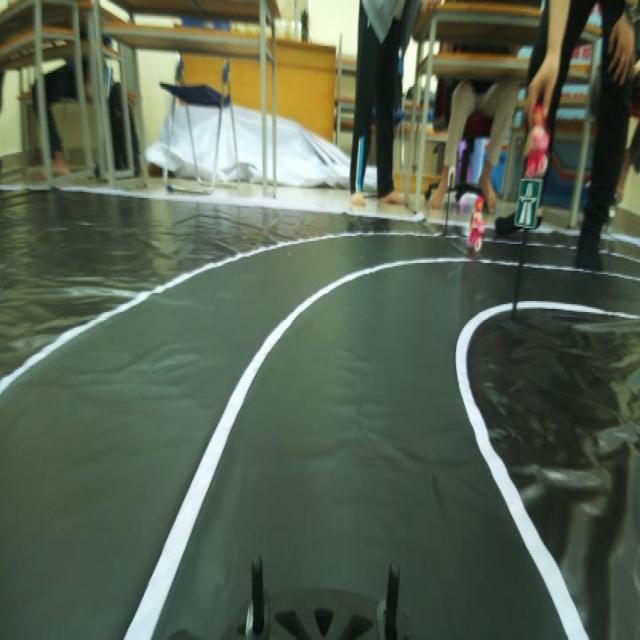highway_entry: (513, 162, 544, 234)
